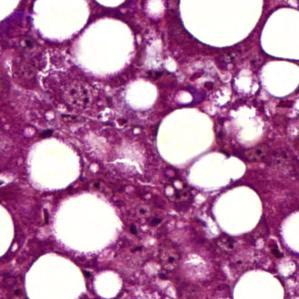steatosis: (152, 108, 215, 170), (23, 137, 84, 191), (77, 21, 128, 73), (215, 182, 264, 235)
